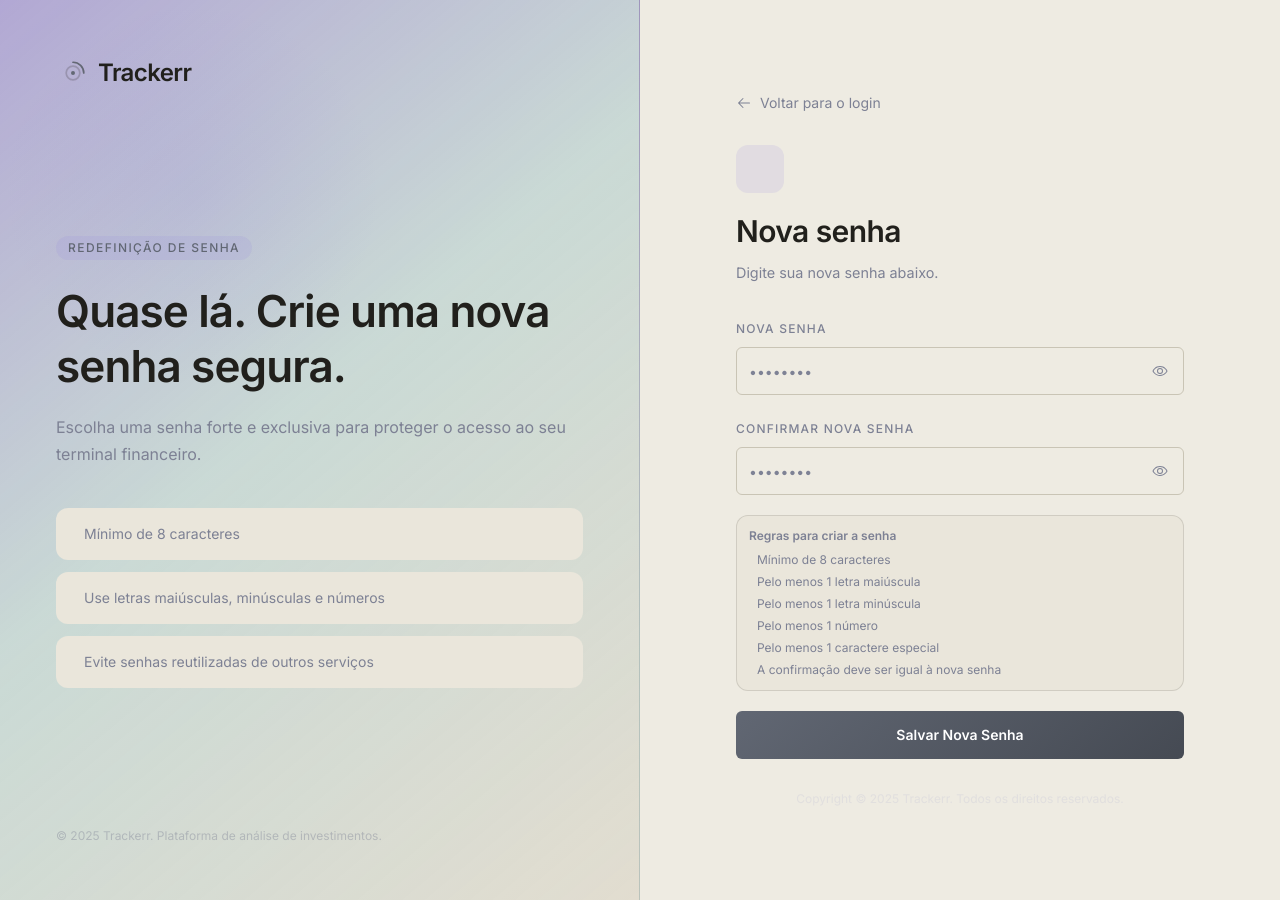
Scenario: ResetPassword › deve exibir sucesso após redefinição
Type "Password123@" into the 1st password field with placeholder "••••••••" at (960, 371), box [736, 347, 1184, 395]
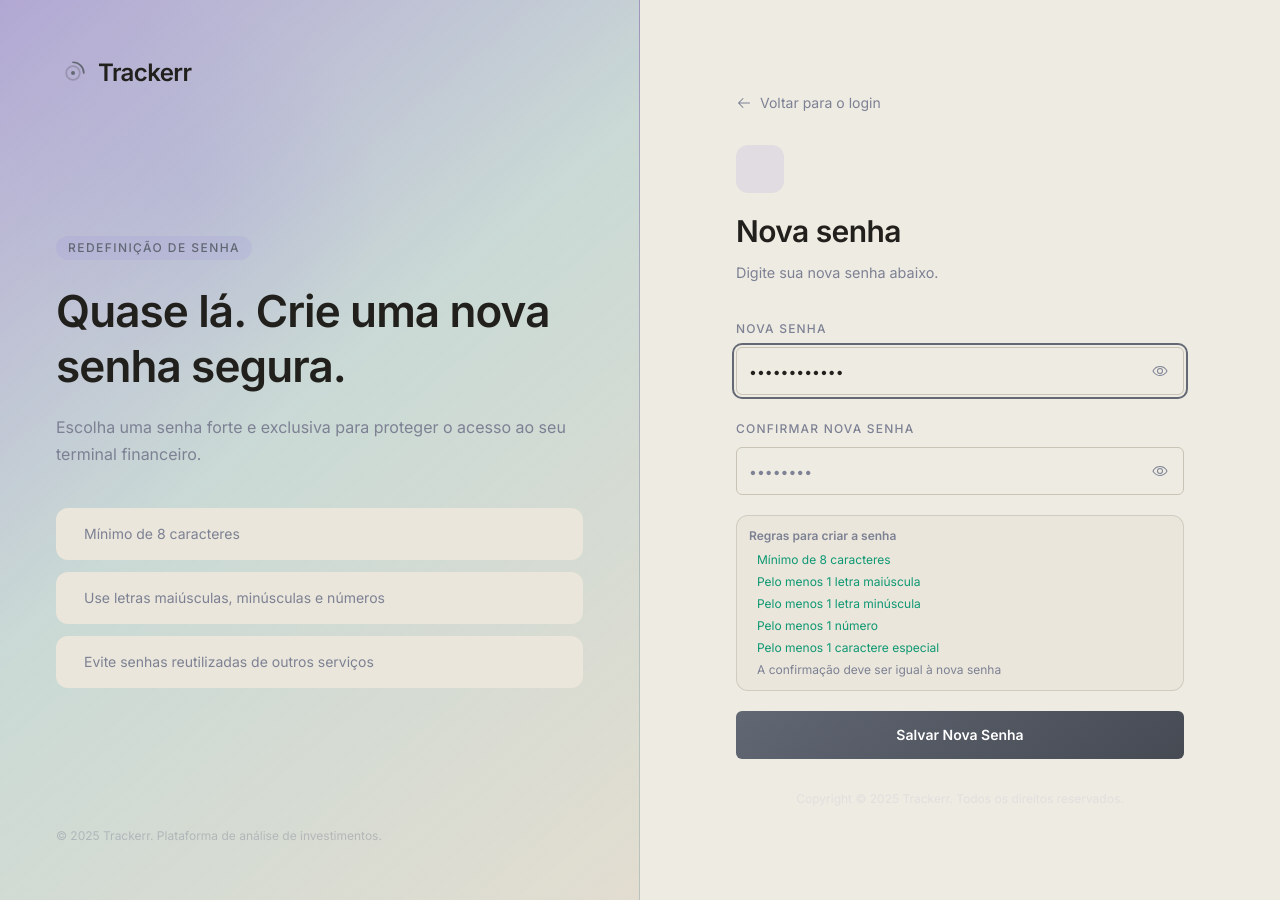
Type "Password123@" into the password field with placeholder "••••••••" at (960, 471), box [736, 447, 1184, 495]
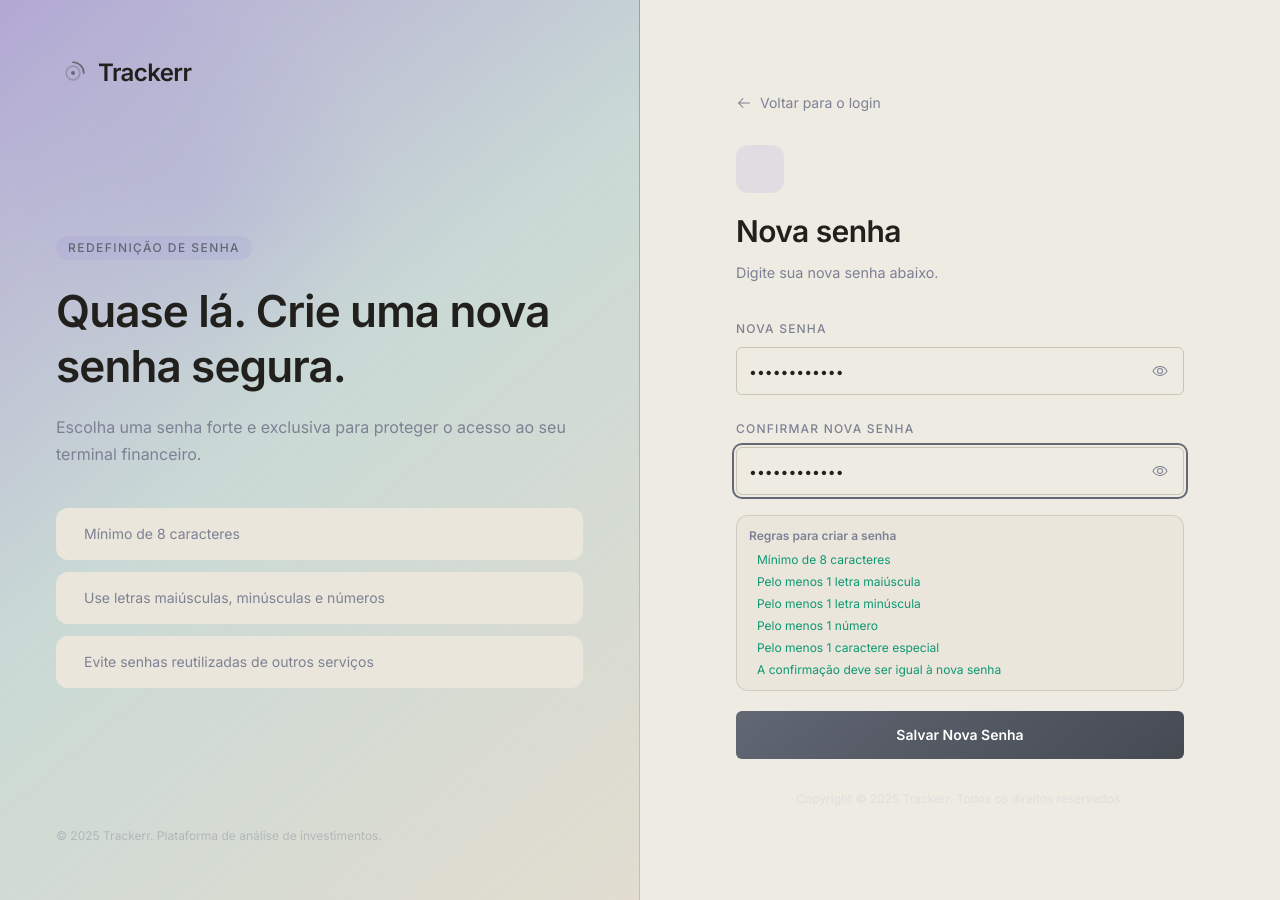
Click the button "Salvar Nova Senha" at (960, 735), box [736, 711, 1184, 759]
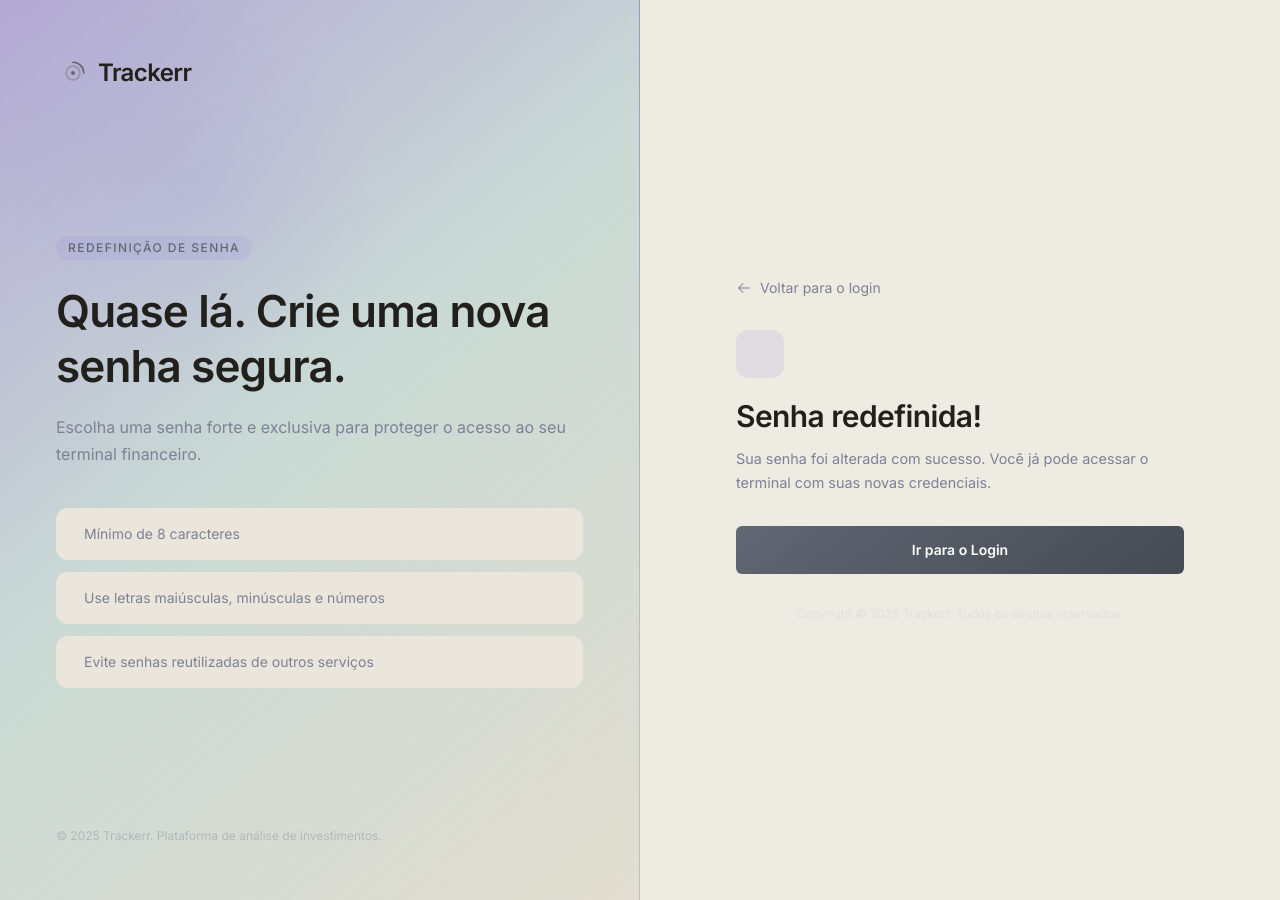
Expected: the element with test id "reset-password-success" is shown, [736, 330, 1184, 574]
